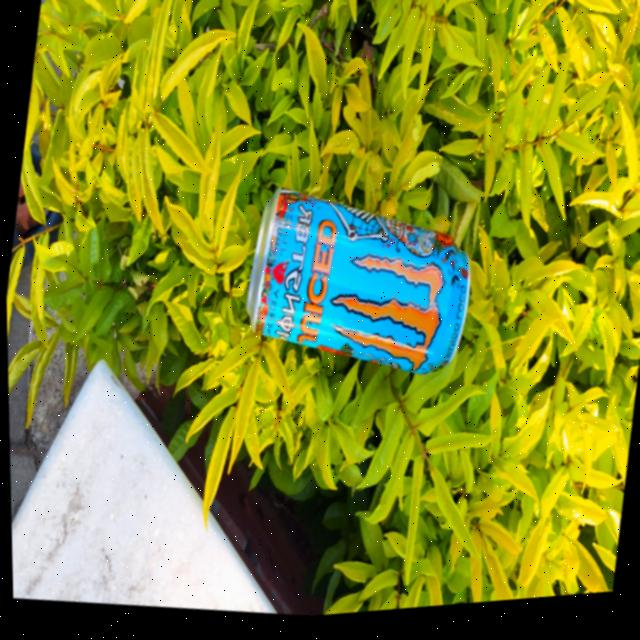Monster Mango Loco: (238, 186, 477, 411)
